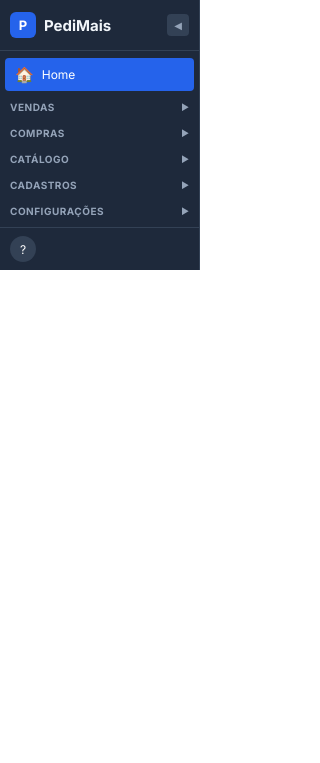
Test case: AppSidebar › when the sidebar itself is collapsed to icon rail, group items stay visible regardless of group state
Click the button with test id "collapse-toggle". click: [178, 25]
box: [167,14,189,36]
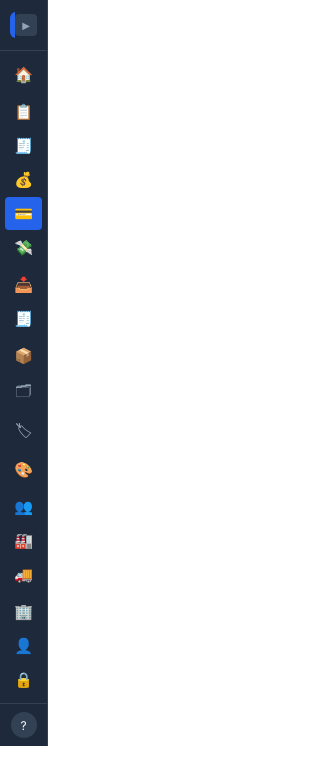
Check: the element with test id "nav-Pedidos" is shown, box [14,102,33,121]
